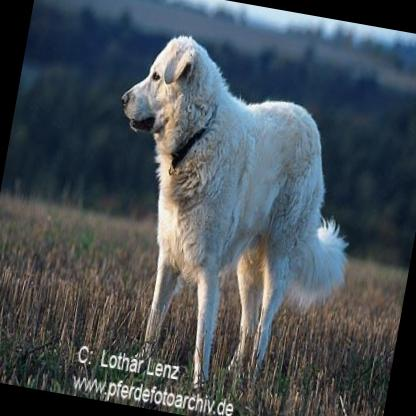kuvasz: (72, 23, 379, 413)
